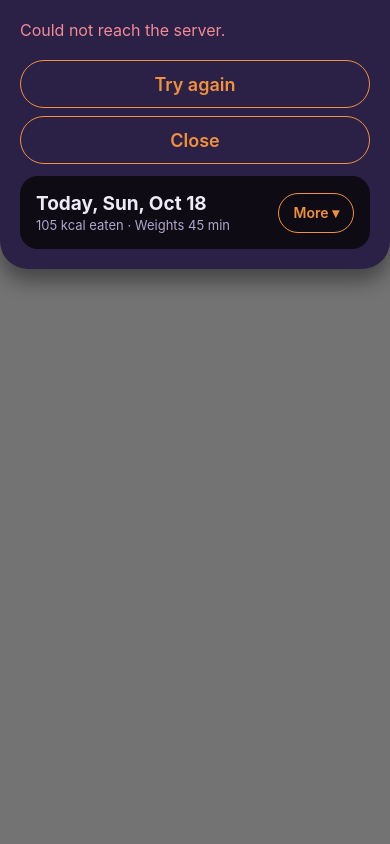
Test case: CalendarOverlay › shows a calendar error with a way to try again
The width and height of the screenshot is (390, 844).
expect the text "Could not reach the server." is shown: met, box [20,20,225,40]
What coordinates should you click on to do the following:
click the button labelled "Try again"
I would click on:
 (195, 84)
Its box is [20,60,370,108].
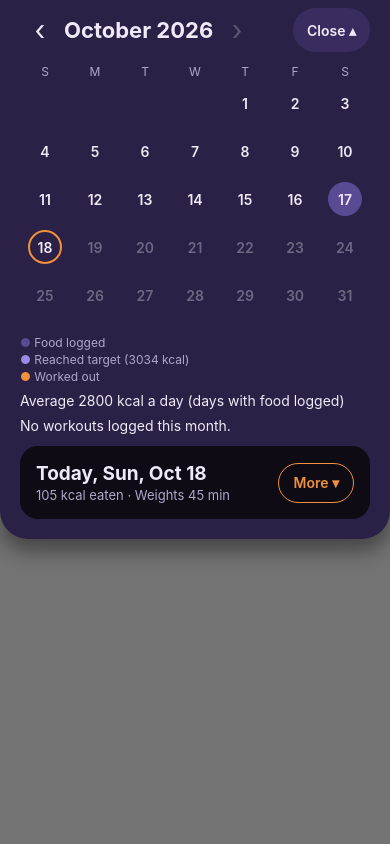
expect the heading "October 2026" is shown: met, box [64,17,213,43]
